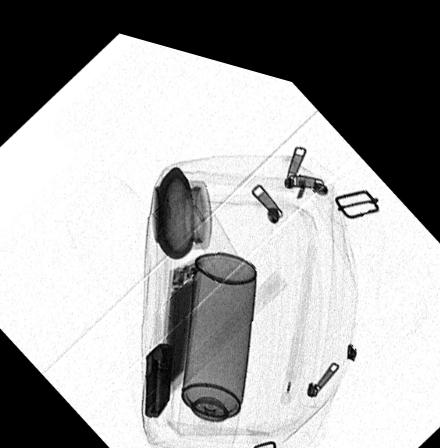Lighter: (144, 332, 174, 409)
Powerbank: (155, 244, 205, 395)
Sprayer: (179, 238, 258, 441)
